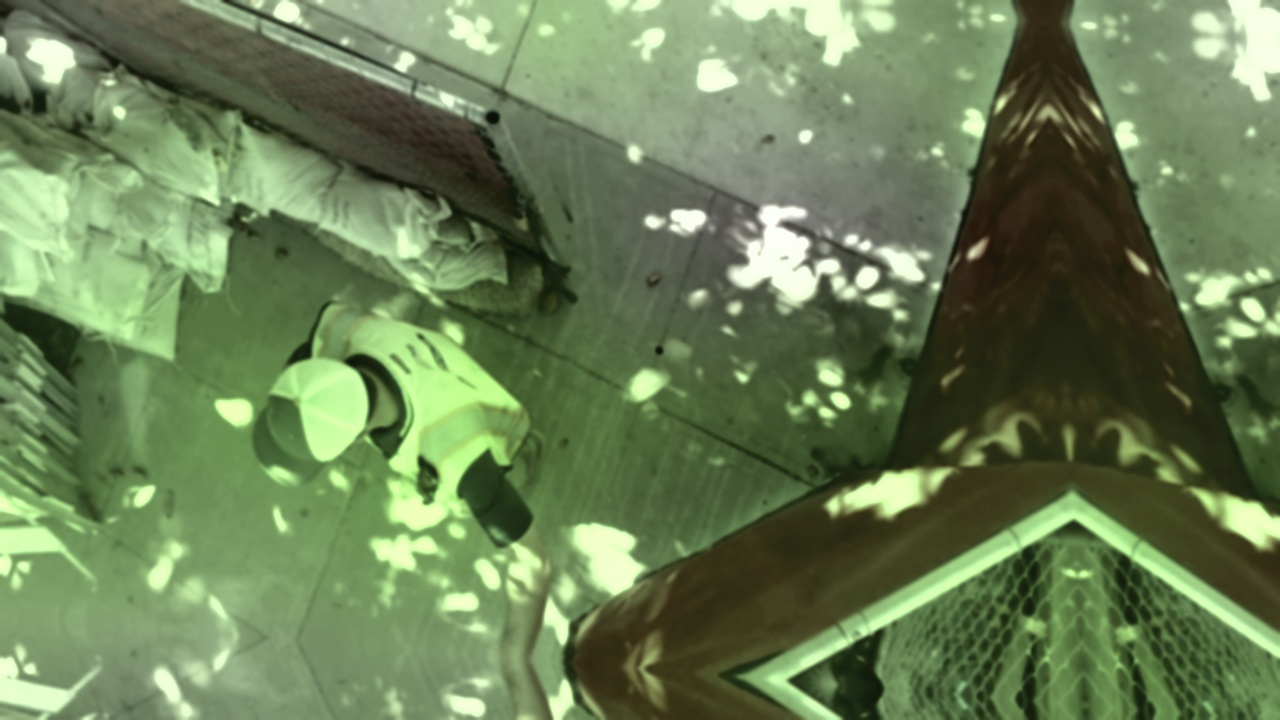person: (241, 299, 560, 660)
safetyvest: (306, 298, 538, 516)
